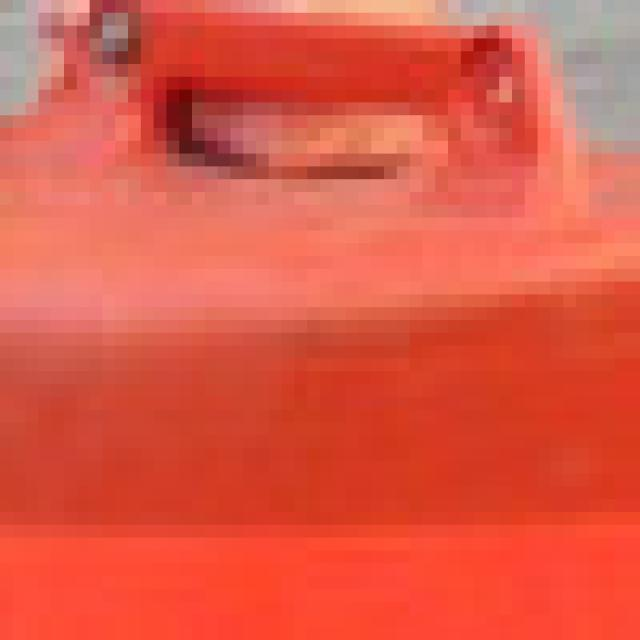no_fire: (3, 34, 640, 640)
